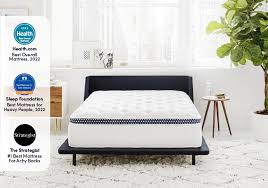bed-matress: (66, 88, 205, 150)
